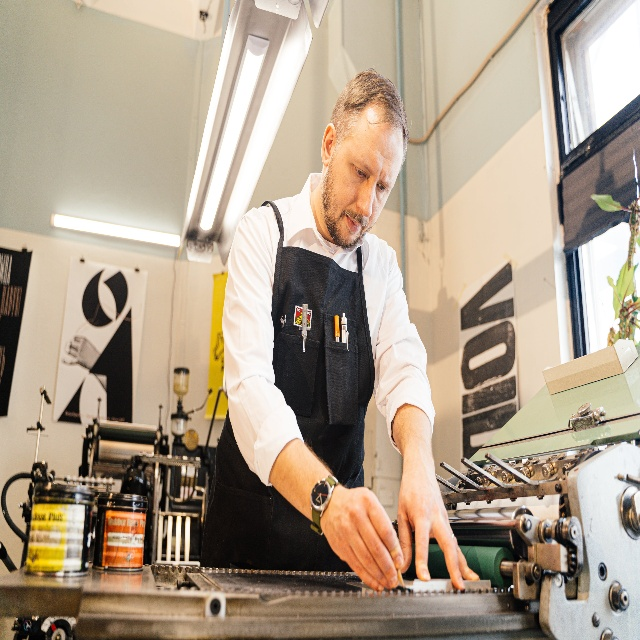Sin_guantes: (397, 445, 479, 593), (324, 485, 404, 591)
